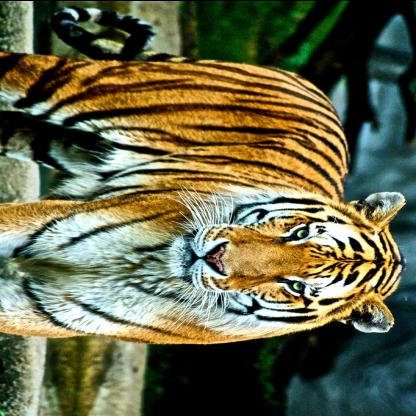tiger: (166, 178, 416, 336)
